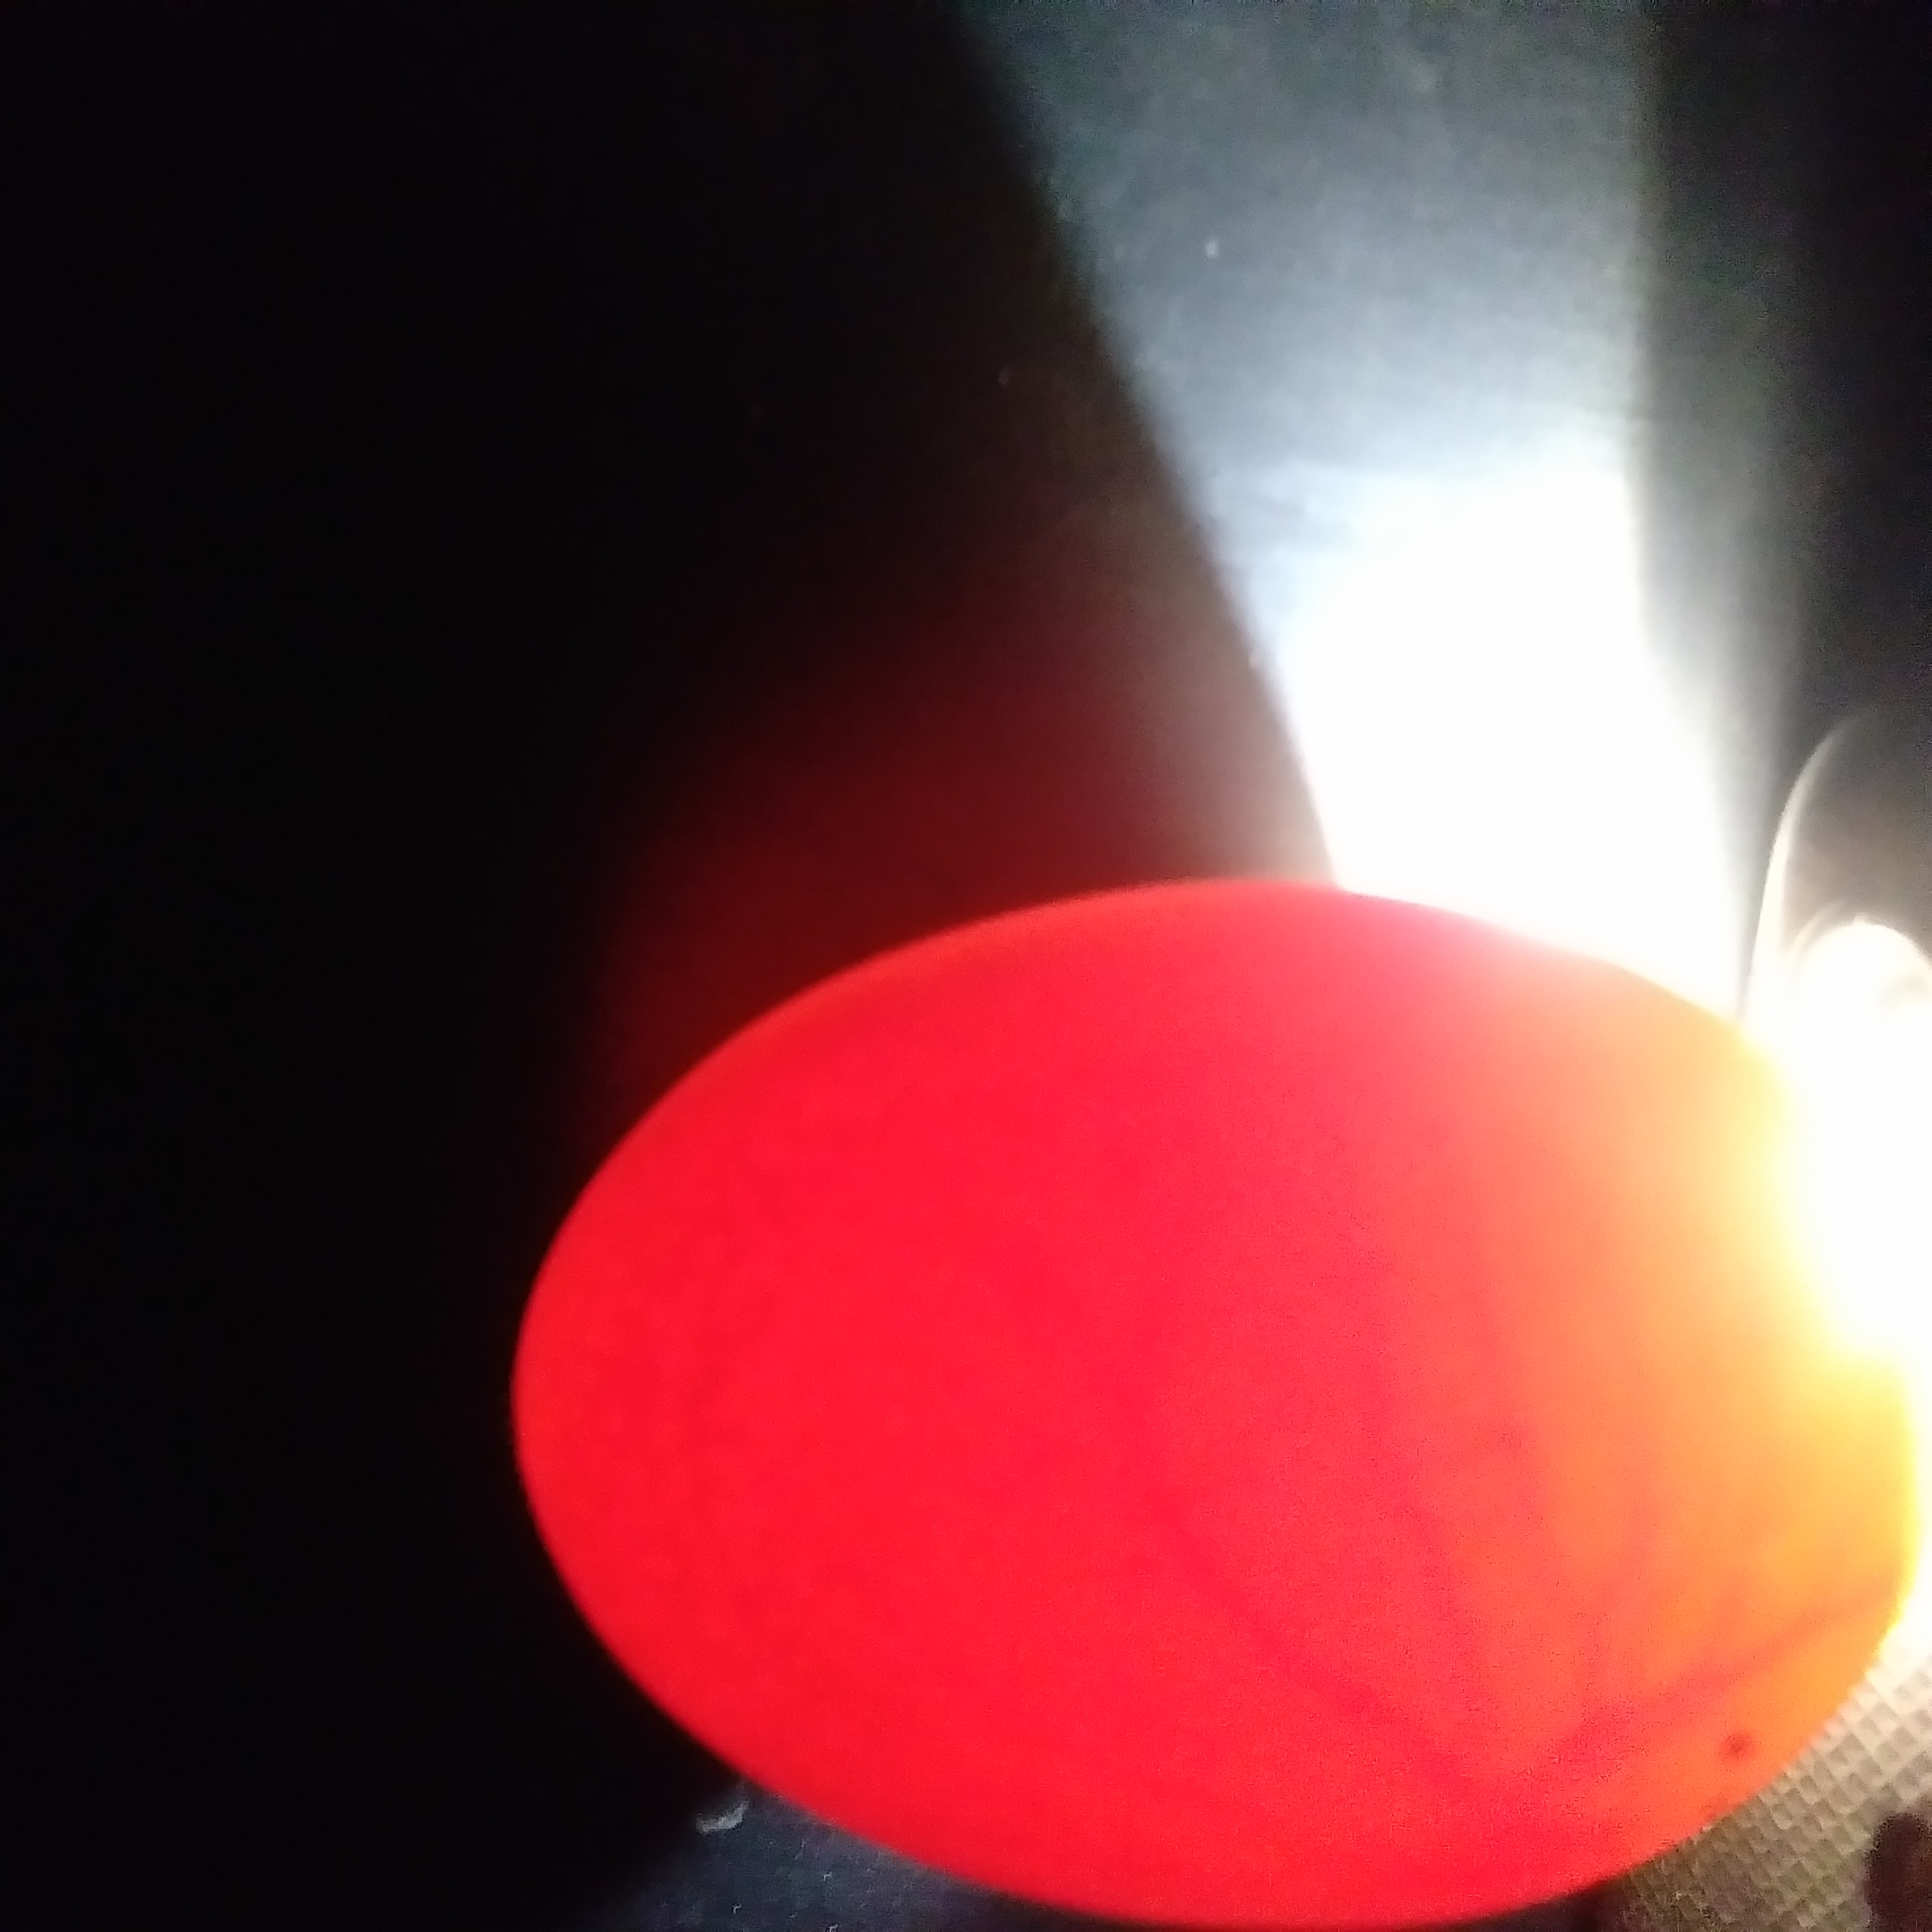bloodcell: (1270, 1035, 1709, 1773)
